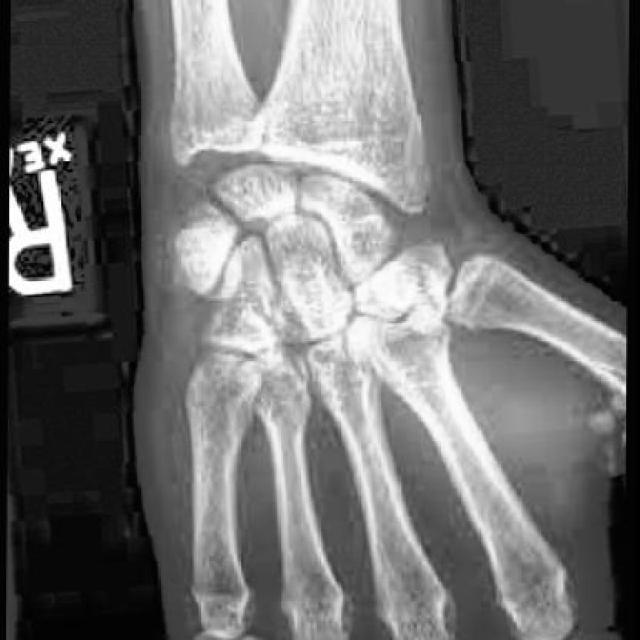Fracture: (382, 260, 447, 322)
